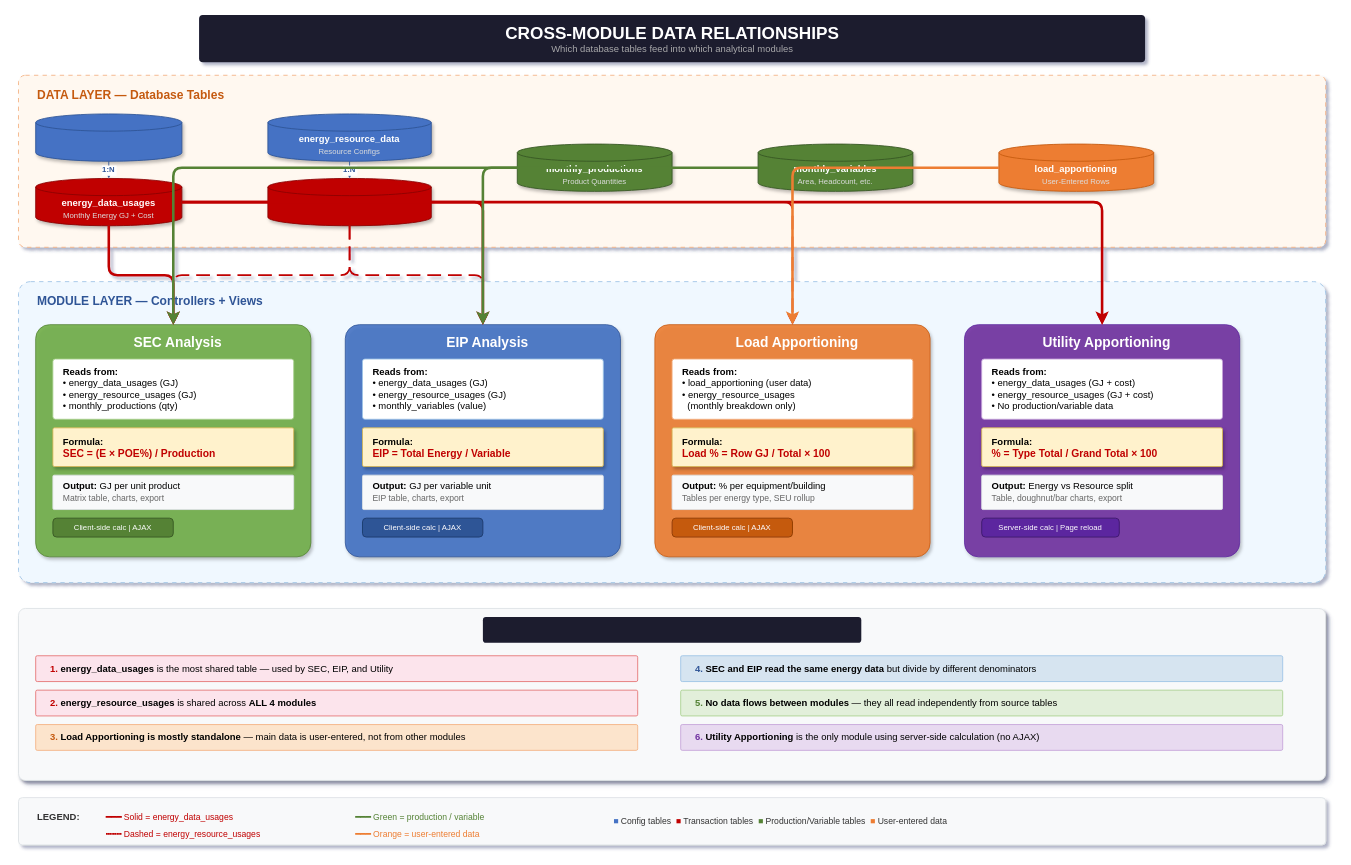
The diagram is 1351 pixels wide and 865 high, and some of its shapes have lost their labels. The shapes that lost their labels are listed below. From the top down, each one's centre as x and y in pixels, then its label:
At point (109, 138): "energy_data Meter Configs".
At point (350, 203): "energy_resource_usages Monthly Resource GJ + Cost".
At point (671, 629): "KEY INSIGHTS".
